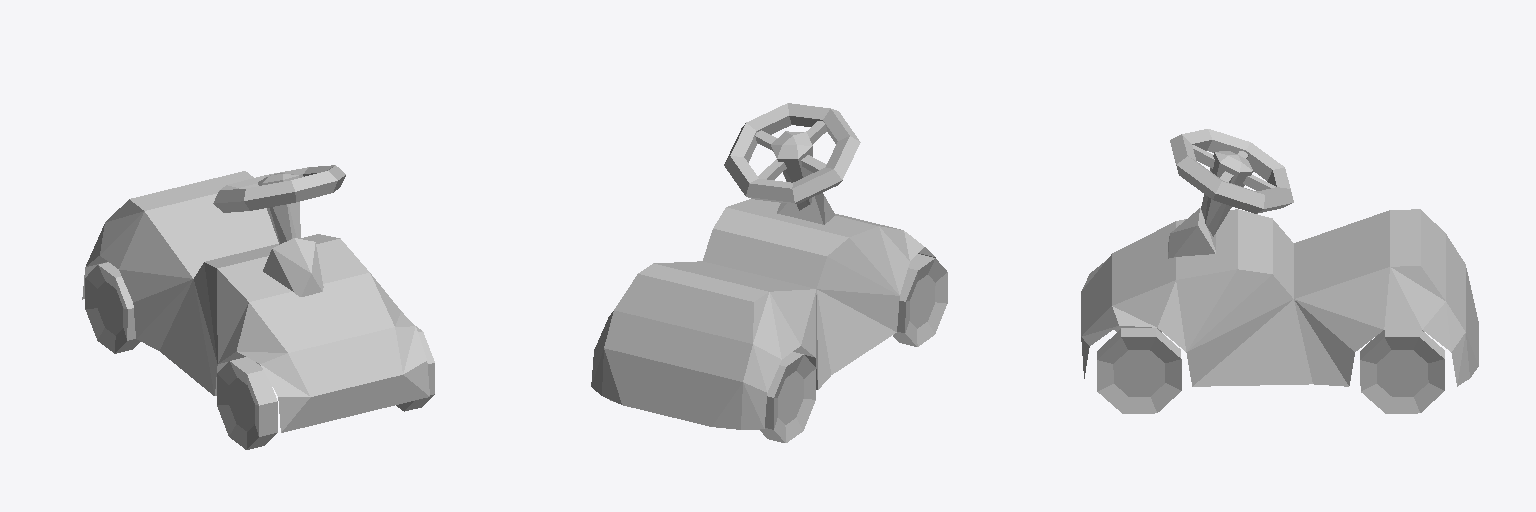
File: toy_001.obj
The picture shows the model from 3 angles: view 1: azimuth 30°, elevation 25°; view 2: azimuth 150°, elevation 25°; view 3: azimuth 270°, elevation 25°; orthographic projection.
Parts seen in each view (by area): view 1: toy_001; view 2: toy_001; view 3: toy_001.
Boxes of the visible parts, x1,y1,x2,y2 form: toy_001: [82, 165, 434, 449]; toy_001: [591, 103, 947, 442]; toy_001: [1081, 129, 1478, 413].
Bounding box in the file's own units: 0.3026 × 0.3767 × 0.5902.